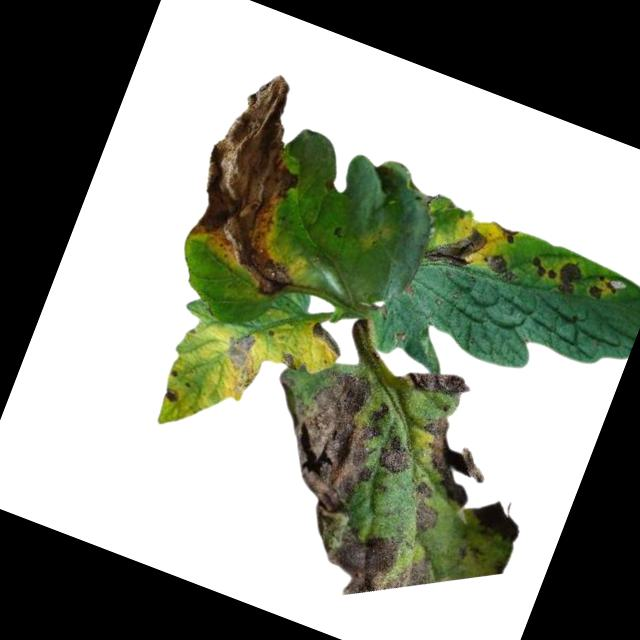Early_blight: (169, 60, 359, 303), (243, 345, 403, 514), (292, 502, 439, 620), (405, 410, 503, 509), (424, 215, 491, 279), (213, 323, 273, 391), (401, 357, 474, 409), (470, 489, 533, 543), (374, 425, 419, 476), (408, 495, 455, 542), (305, 320, 349, 358), (554, 255, 589, 298), (588, 269, 627, 307), (487, 250, 523, 283), (529, 253, 564, 283), (488, 220, 522, 246), (278, 349, 301, 371), (162, 384, 184, 405)
